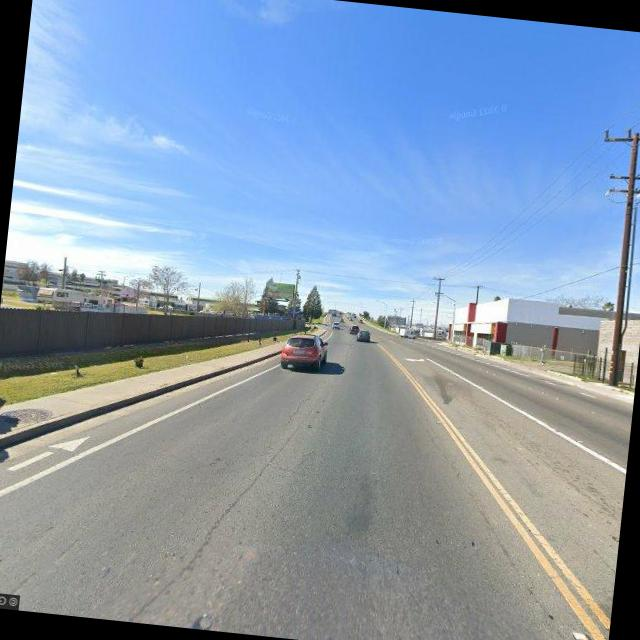pothole: (282, 372, 324, 430)
